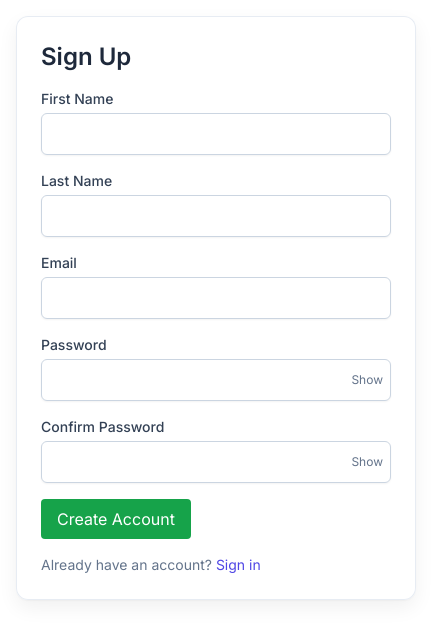
Test case: SignUp Page › shows mismatch error when passwords differ
The image size is (433, 643).
Type "Ada" into the field labelled "First Name" at (216, 134), box [41,113,391,155]
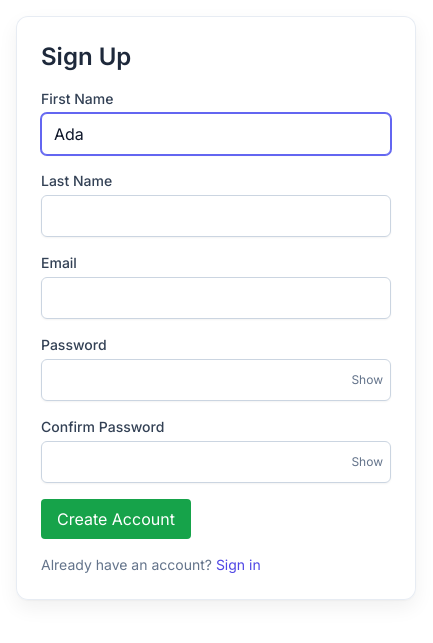
Type "Lovelace" into the field labelled "Last Name" at (216, 216), box [41,195,391,237]
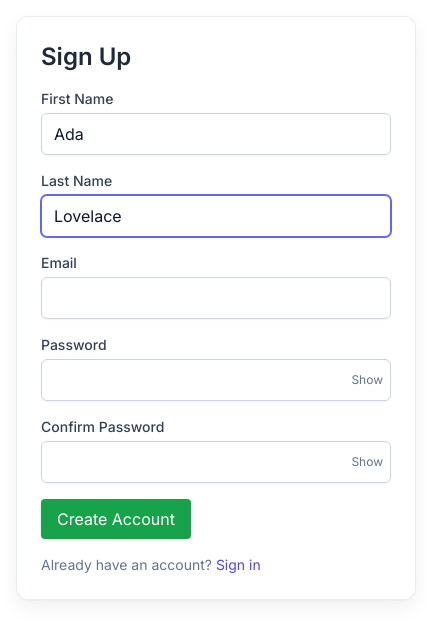
Type "ada@example.com" into the field labelled "Email" at (216, 298), box [41,277,391,319]
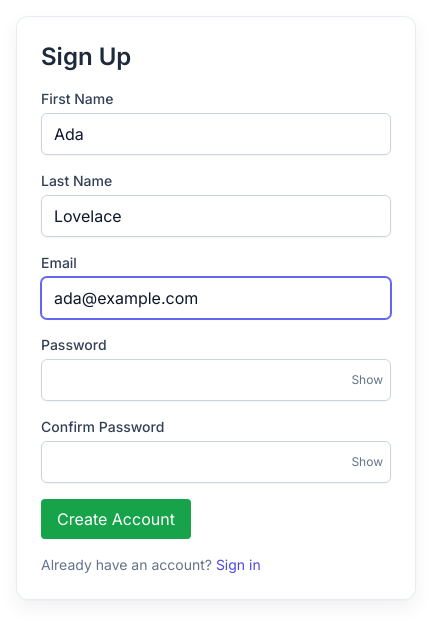
Type "StrongPass1!" into the password field labelled "Password" at (216, 380), box [41,359,391,401]
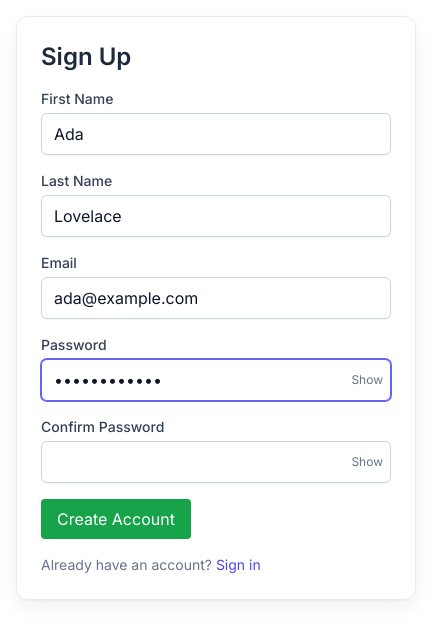
Type "Mismatch1!" into the password field labelled "Confirm Password" at (216, 462), box [41,441,391,483]
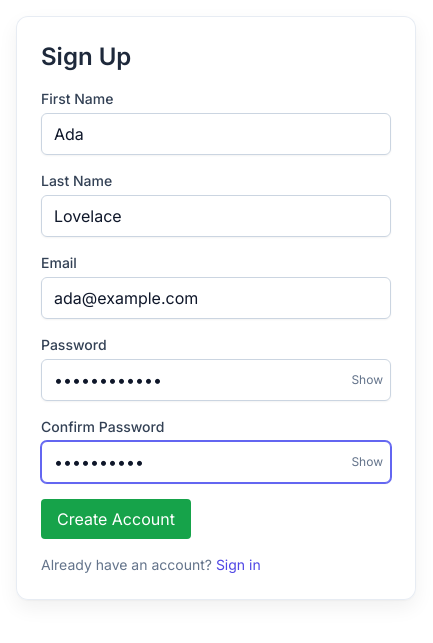
Click the button "Create Account" at (116, 519), box [41,499,191,539]
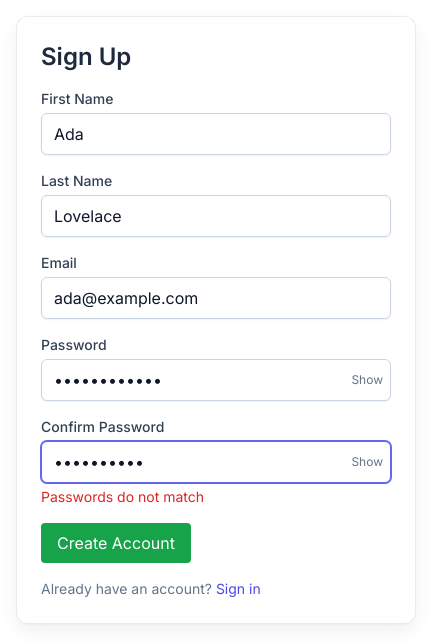
Result: the text "Passwords do not match" is shown at [41,488,204,505]
